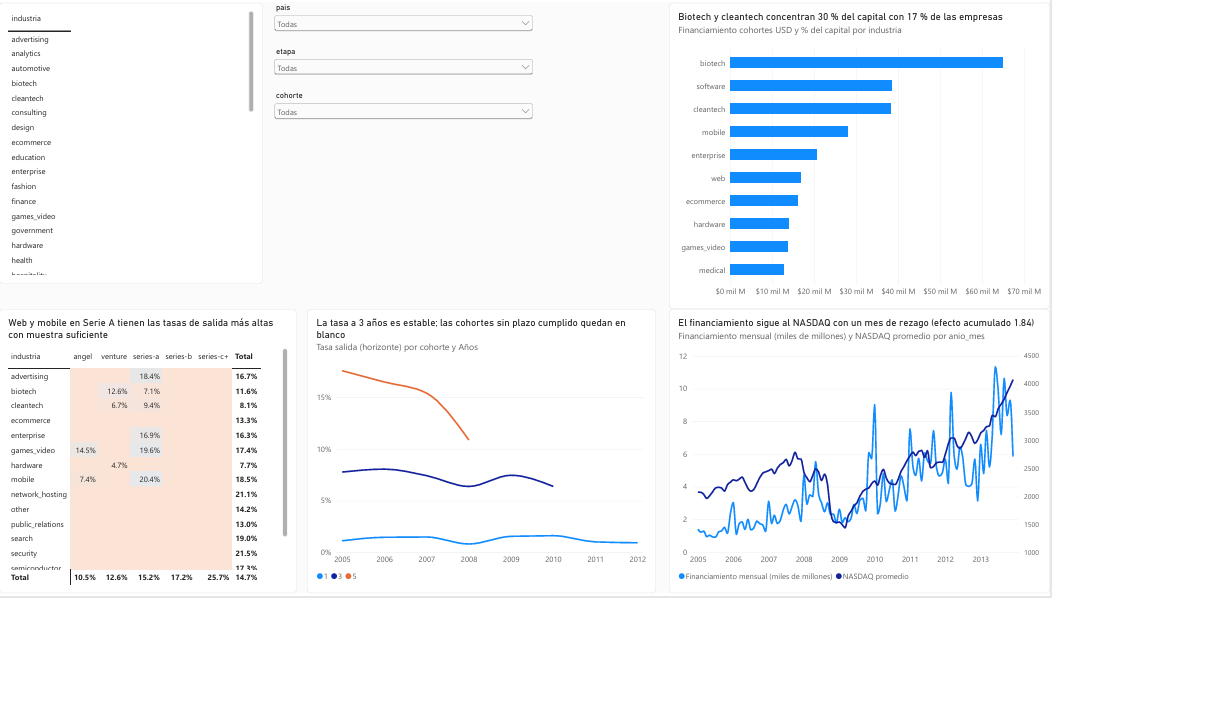

What the dashboard file says about the page in this screenshot:
{"tool":"powerbi","page":{"name":"Explorador de startups","canvas":[1920,1080],"ordinal":2},"visuals":[{"type":"tableEx","fields":{"Values":["dash_dim_industria.industria"]},"box":[0,0,481.5,514.2],"z":1},{"type":"slicer","fields":{"Values":["dash_dim_pais.pais"]},"box":[498,0,482,429],"z":2},{"type":"slicer","fields":{"Values":["dash_dim_etapa.etapa"]},"box":[498,79.6,482,202],"z":3},{"type":"slicer","fields":{"Values":["dash_dim_cohorte.cohorte"]},"box":[498,161.2,482,429],"z":4},{"type":"pivotTable","title":"Web y mobile en Serie A tienen las tasas de salida más altas con muestra suficiente","fields":{"Columns":["dash_dim_etapa.etapa"],"Rows":["dash_dim_industria.industria"],"Values":["_Medidas.Tasa salida 5a (confiable)"]},"box":[0,560.4,544.1,519.6],"z":5},{"type":"lineChart","title":"La tasa a 3 años es estable; las cohortes sin plazo cumplido quedan en blanco","fields":{"Category":["dash_dim_cohorte.cohorte"],"Series":["Horizonte.Años"],"Y":["_Medidas.Tasa salida (horizonte)"]},"box":[563.1,560.4,636.6,519.6],"z":6},{"type":"clusteredBarChart","title":"Biotech y cleantech concentran 30 % del capital con 17 % de las empresas","fields":{"Category":["dash_dim_industria.industria"],"Y":["_Medidas.Financiamiento cohortes USD"]},"box":[1224.2,0,696.4,560.4],"z":7},{"type":"lineChart","title":"El financiamiento sigue al NASDAQ con un mes de rezago (efecto acumulado 1.84)","fields":{"Category":["res_ciclos_mercado_panel.anio_mes"],"Y":["_Medidas.Financiamiento mensual (miles de millones)"],"Y2":["_Medidas.NASDAQ promedio"]},"box":[1224.2,560.4,696.4,519.6],"z":8}]}

Visuals, with their boxes on the page's 1920x1080 design canvas (x1, y1, x2, y2). These are canvas units, not pixel positions in the 1225x720 screenshot, which may show the page scaled, cropped or inside an application window:
tableEx - dash_dim_industria.industria: bbox=(0, 0, 482, 514)
slicer - dash_dim_pais.pais: bbox=(498, 0, 980, 429)
slicer - dash_dim_etapa.etapa: bbox=(498, 80, 980, 282)
slicer - dash_dim_cohorte.cohorte: bbox=(498, 161, 980, 590)
"Web y mobile en Serie A tienen las tasas de salida más altas con muestra suficiente" pivotTable: bbox=(0, 560, 544, 1080)
"La tasa a 3 años es estable; las cohortes sin plazo cumplido quedan en blanco" lineChart: bbox=(563, 560, 1200, 1080)
"Biotech y cleantech concentran 30 % del capital con 17 % de las empresas" clusteredBarChart: bbox=(1224, 0, 1921, 560)
"El financiamiento sigue al NASDAQ con un mes de rezago (efecto acumulado 1.84)" lineChart: bbox=(1224, 560, 1921, 1080)
